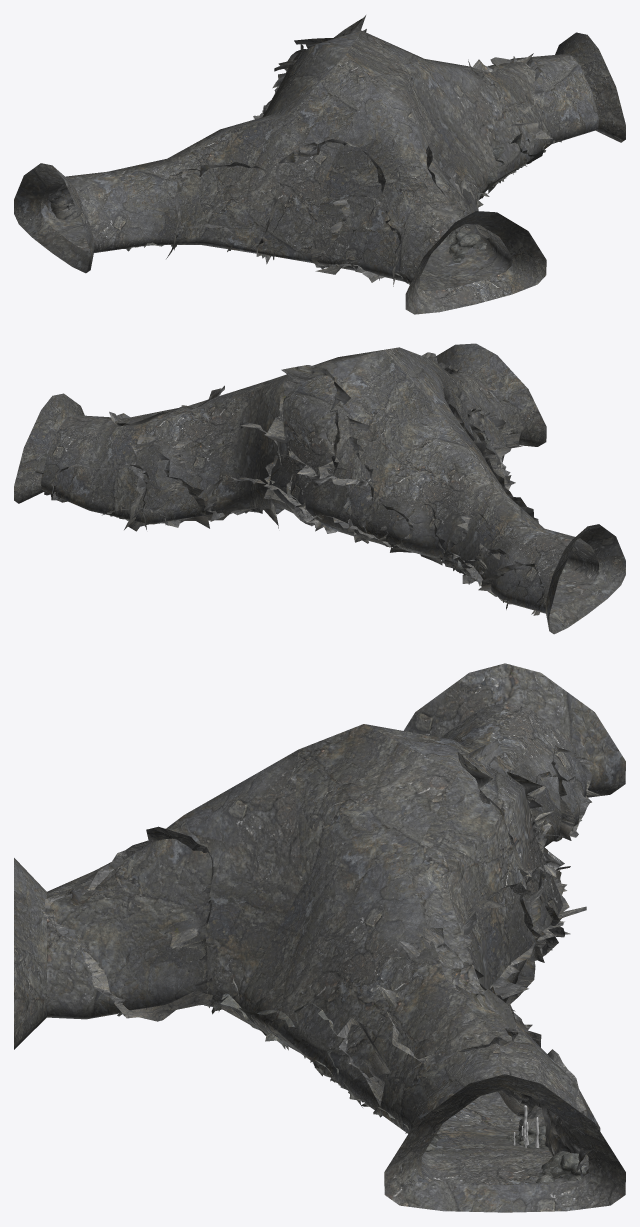
File: cave_3way.dae
3 renders of one model, top to bottom at view 1: azimuth 30°, elevation 25°; view 2: azimuth 150°, elevation 25°; view 3: azimuth 270°, elevation 25°, orthographic. The views are drawn at different scales.
Parts seen in each view (by area): view 1: CaveWall, StriatedRock, RockPile; view 2: CaveWall, StriatedRock; view 3: CaveWall, StriatedRock, RockPile.
Part boxes in pixels (bbox=[...]): CaveWall: bbox=[14, 30, 625, 314]; StriatedRock: bbox=[48, 15, 552, 286]; RockPile: bbox=[124, 133, 561, 284]; CaveWall: bbox=[14, 343, 625, 634]; StriatedRock: bbox=[35, 352, 544, 615]; CaveWall: bbox=[14, 663, 625, 1212]; StriatedRock: bbox=[39, 739, 601, 1177]; RockPile: bbox=[117, 818, 588, 1183].
Bounding box in the file's own units: 2656 × 1669 × 862.
Materials: 4 (3 with a texture image).
